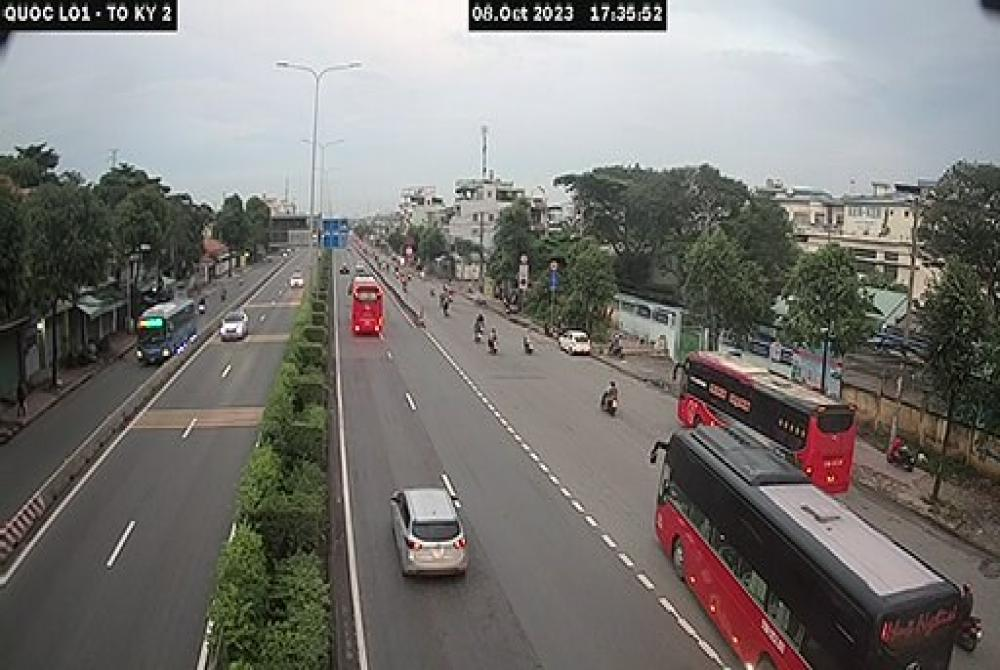bus: (657, 423, 964, 670), (678, 349, 856, 496), (132, 297, 194, 357), (349, 277, 386, 333)
car: (388, 490, 470, 584), (221, 306, 248, 343)
